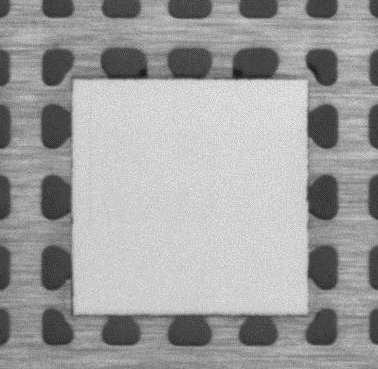DIE_CRACK: (82, 91, 96, 238)
